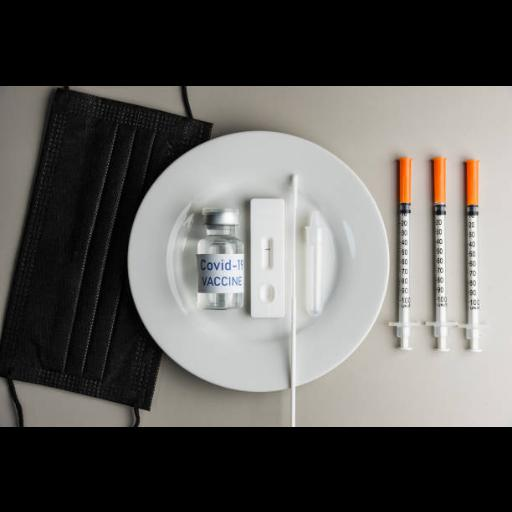Neg: (250, 197, 284, 315)
